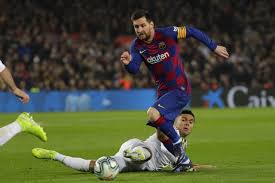barcelona: (123, 12, 220, 176)
realmadrid: (31, 109, 208, 177)
